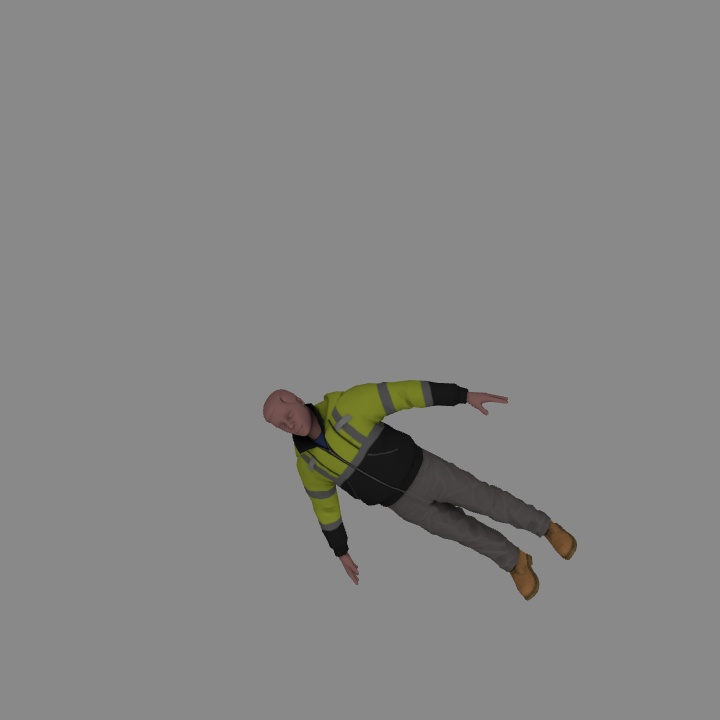victim: (267, 385, 577, 601)
